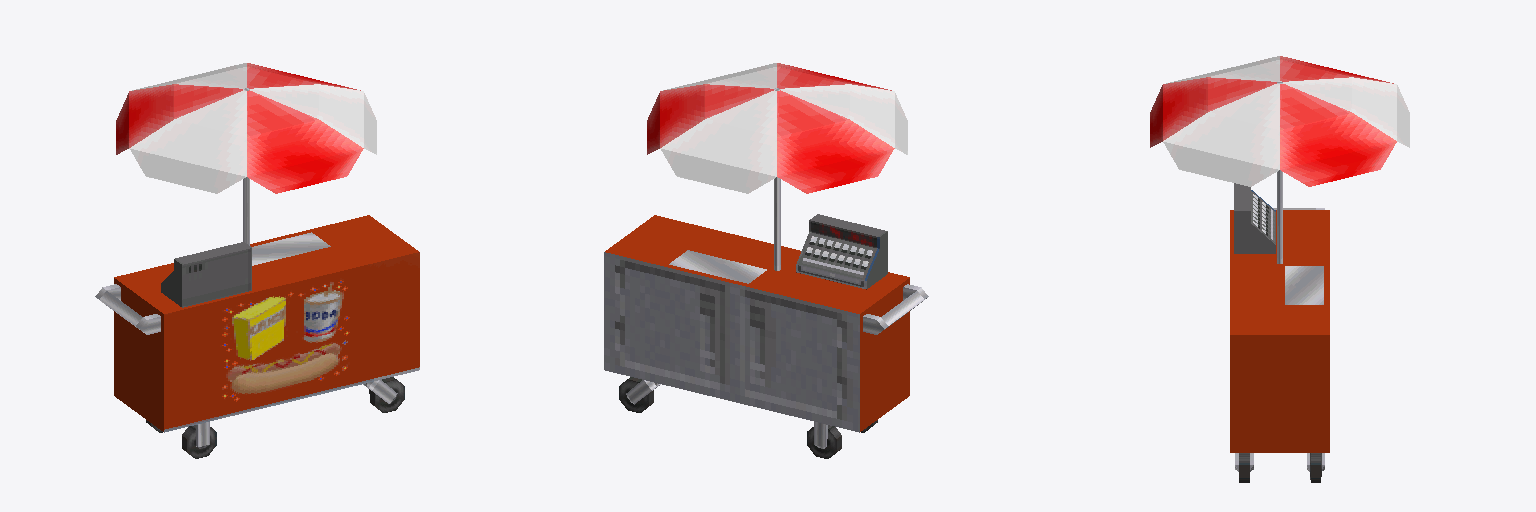
3 renders of one model, left to right at view 1: azimuth 30°, elevation 25°; view 2: azimuth 150°, elevation 25°; view 3: azimuth 270°, elevation 25°, orthographic.
Visible parts, largest first — view 1: DB:>PERSO>P_FOOD_CART>MESH_PWP>P_FOOD_CART_MESH.TMESH; view 2: DB:>PERSO>P_FOOD_CART>MESH_PWP>P_FOOD_CART_MESH.TMESH; view 3: DB:>PERSO>P_FOOD_CART>MESH_PWP>P_FOOD_CART_MESH.TMESH.
Part boxes in pixels (x1,y1,x2,y2): DB:>PERSO>P_FOOD_CART>MESH_PWP>P_FOOD_CART_MESH.TMESH: (95, 63, 419, 458); DB:>PERSO>P_FOOD_CART>MESH_PWP>P_FOOD_CART_MESH.TMESH: (604, 63, 928, 458); DB:>PERSO>P_FOOD_CART>MESH_PWP>P_FOOD_CART_MESH.TMESH: (1150, 56, 1409, 482).
Bounding box in the file's own units: 18.42 × 21.44 × 14.99.
Materials: 1 (1 with a texture image).